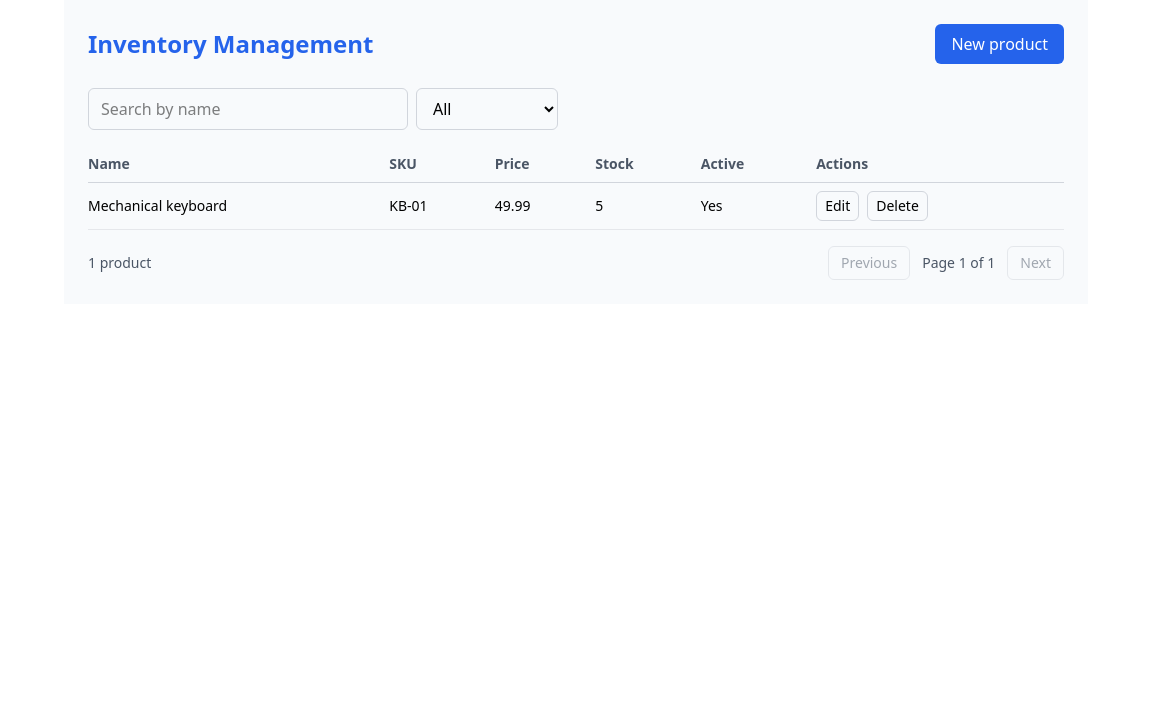
delete flow › any other failure notifies an error and keeps the list intact
Check: the text "Mechanical keyboard" is shown, box [88,182,389,230]
Click the button with aria-label "Delete Mechanical keyboard": point(898, 206) [867,191,928,221]
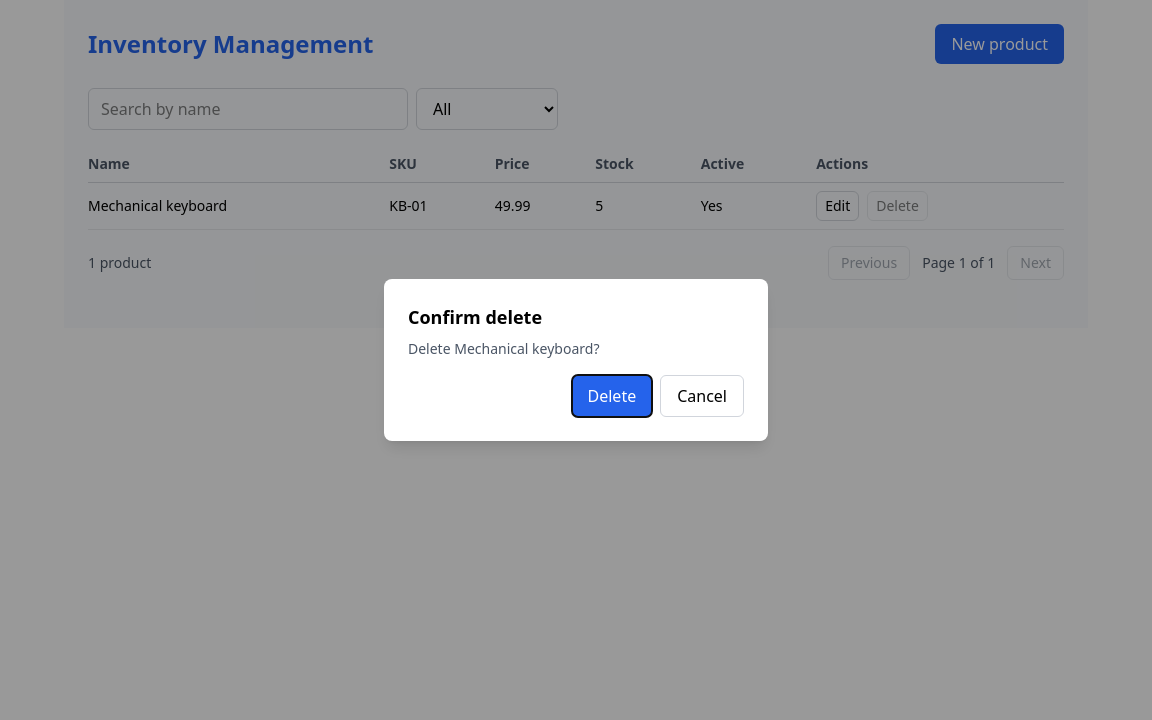
Click the button "Delete": point(612, 396) [572,375,652,417]
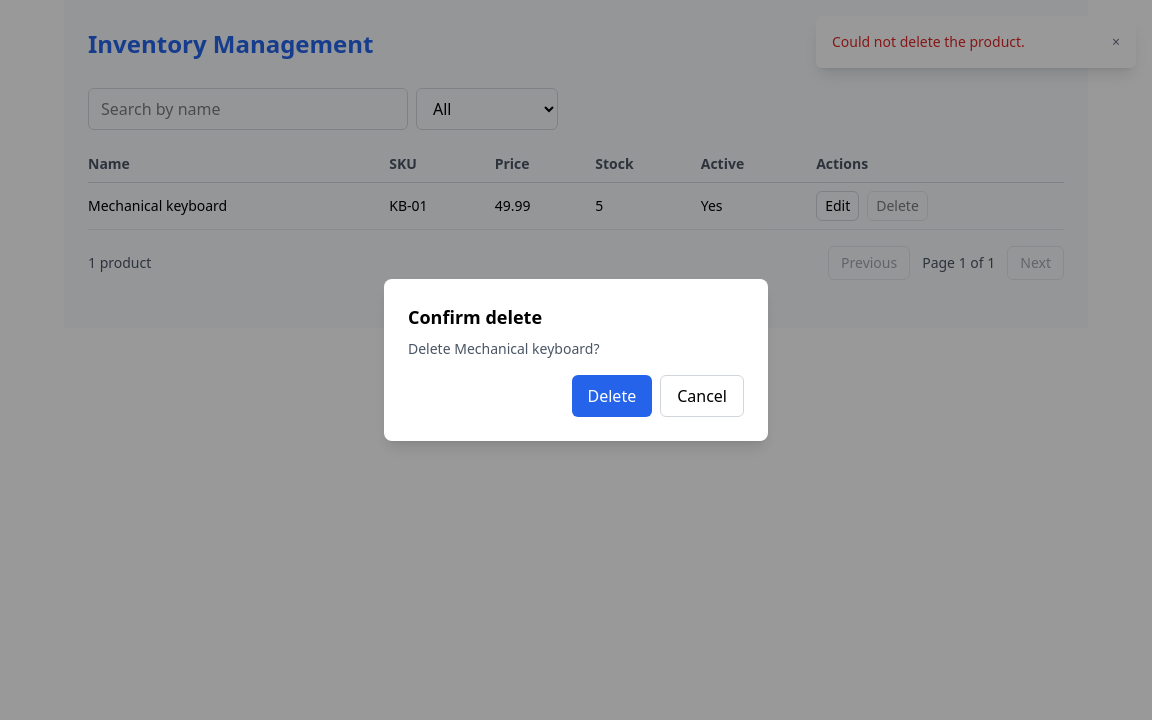
Check: the text "Mechanical keyboard" is shown, box [88,182,389,230]
Check: the dialog "Confirm delete" is shown, box [384,279,768,441]
Check: the text "Could not delete the product." is shown, box [832,32,1025,51]
